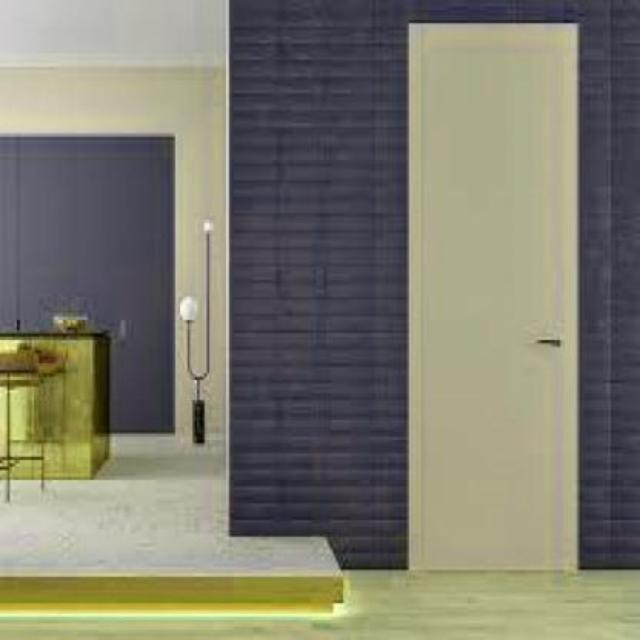door: (406, 20, 580, 572)
